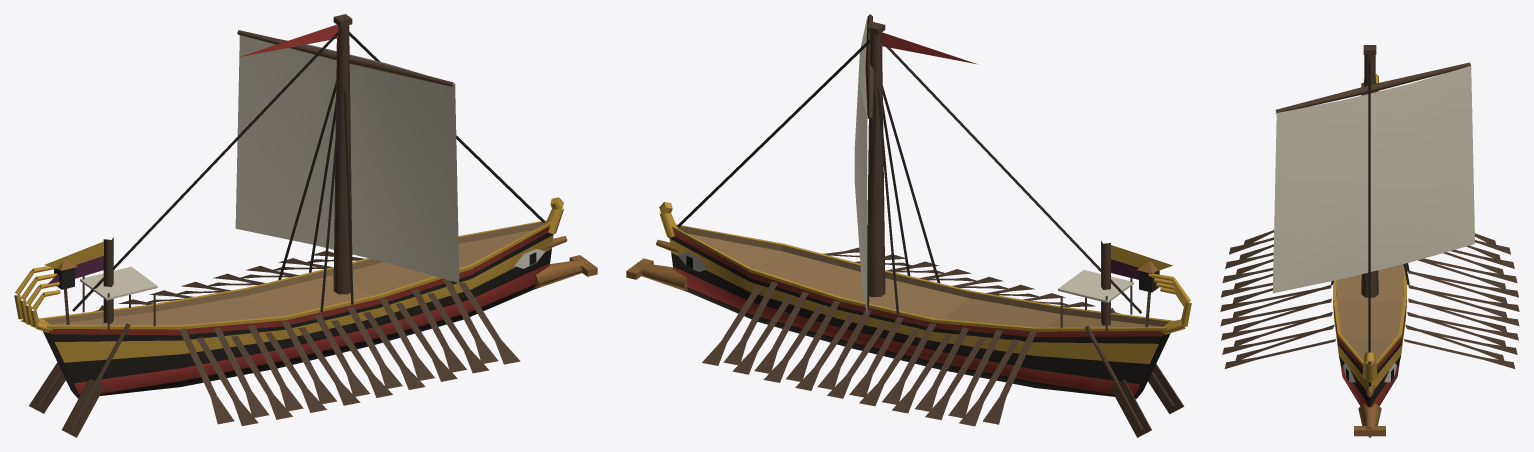
Rendered from hull_gold_bireme_medium.glb.
3 renders of one model, left to right at view 1: azimuth 30°, elevation 25°; view 2: azimuth 150°, elevation 25°; view 3: azimuth 270°, elevation 25°, orthographic. The views are drawn at different scales.
Visible parts, largest first — view 1: sail_main, hull, oars, mast, rigging, deck, flag, yards; view 2: hull, oars, rigging, mast, deck, sail_main, flag, yards; view 3: sail_main, oars, hull, yards, rigging, mast.
Part boxes in pixels (x1,y1,x2,y2): sail_main: (235,35,459,282); hull: (14,197,597,398); oars: (94,251,520,426); mast: (103,14,352,323); rigging: (72,31,544,311); deck: (29,260,157,437); flag: (44,24,338,288); yards: (237,30,453,87); hull: (626,202,1191,399); oars: (702,247,1120,426); rigging: (677,39,1141,314); mast: (867,22,1110,325); deck: (1058,261,1184,437); sail_main: (854,17,867,314); flag: (880,32,1172,282); yards: (865,14,874,118); sail_main: (1272,65,1474,293); oars: (1220,230,1519,368); hull: (1333,74,1406,437); yards: (1275,62,1470,113); rigging: (1331,62,1409,364); mast: (1361,45,1378,297).
Size of the model in its own units: 14.49 by 8.21 by 7.28.
